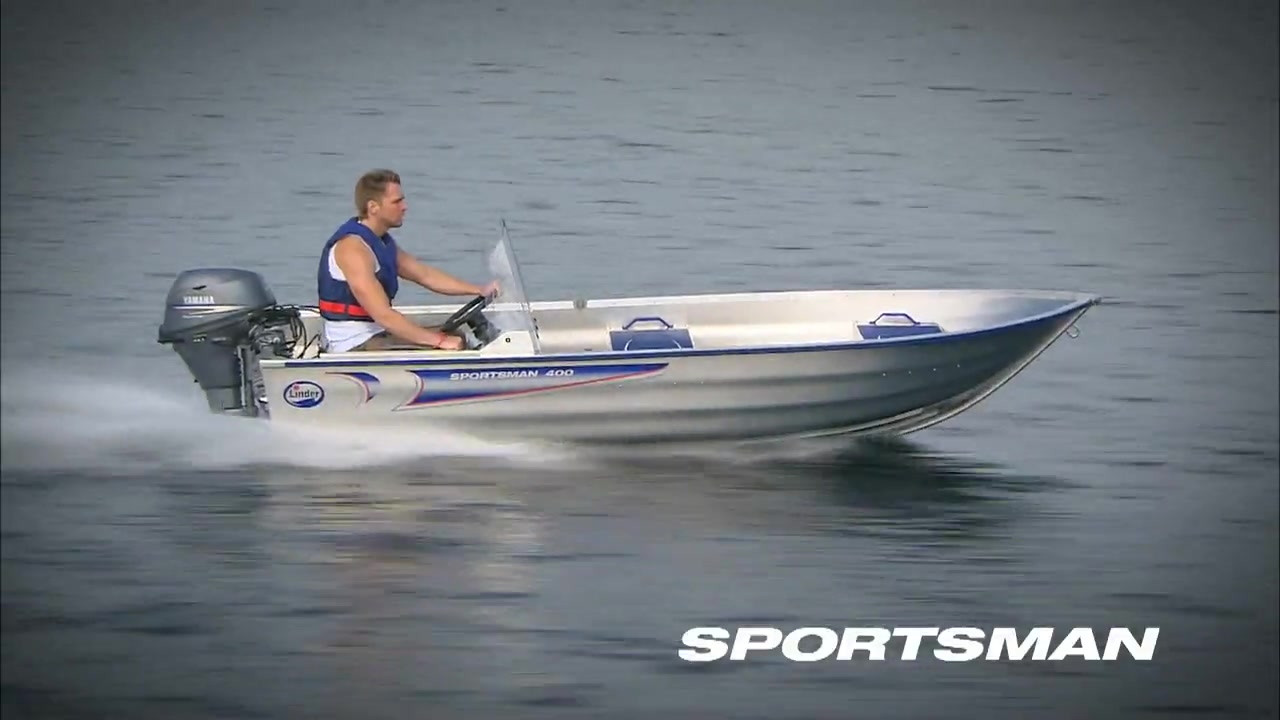boat: (162, 220, 1103, 464)
